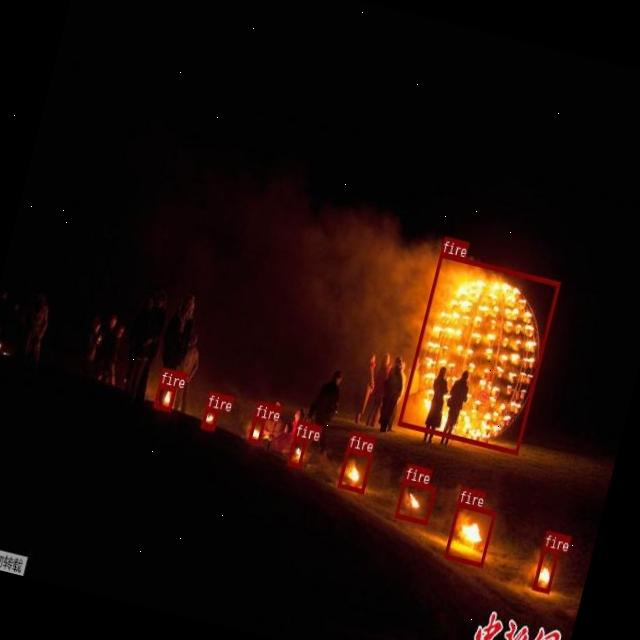fire: (397, 252, 560, 454), (443, 502, 495, 566), (394, 478, 435, 524), (337, 447, 372, 492), (532, 546, 558, 592), (152, 382, 176, 412), (286, 436, 307, 468), (247, 414, 264, 444), (200, 406, 218, 430)
